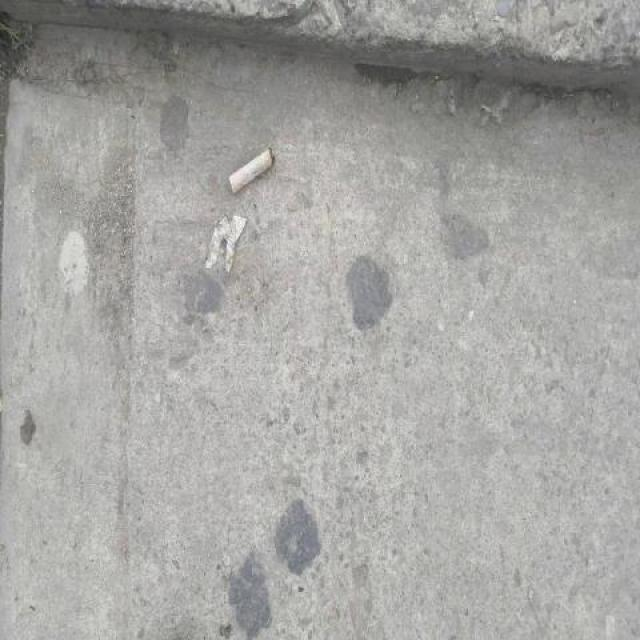non-organic waste: (225, 141, 279, 196)
